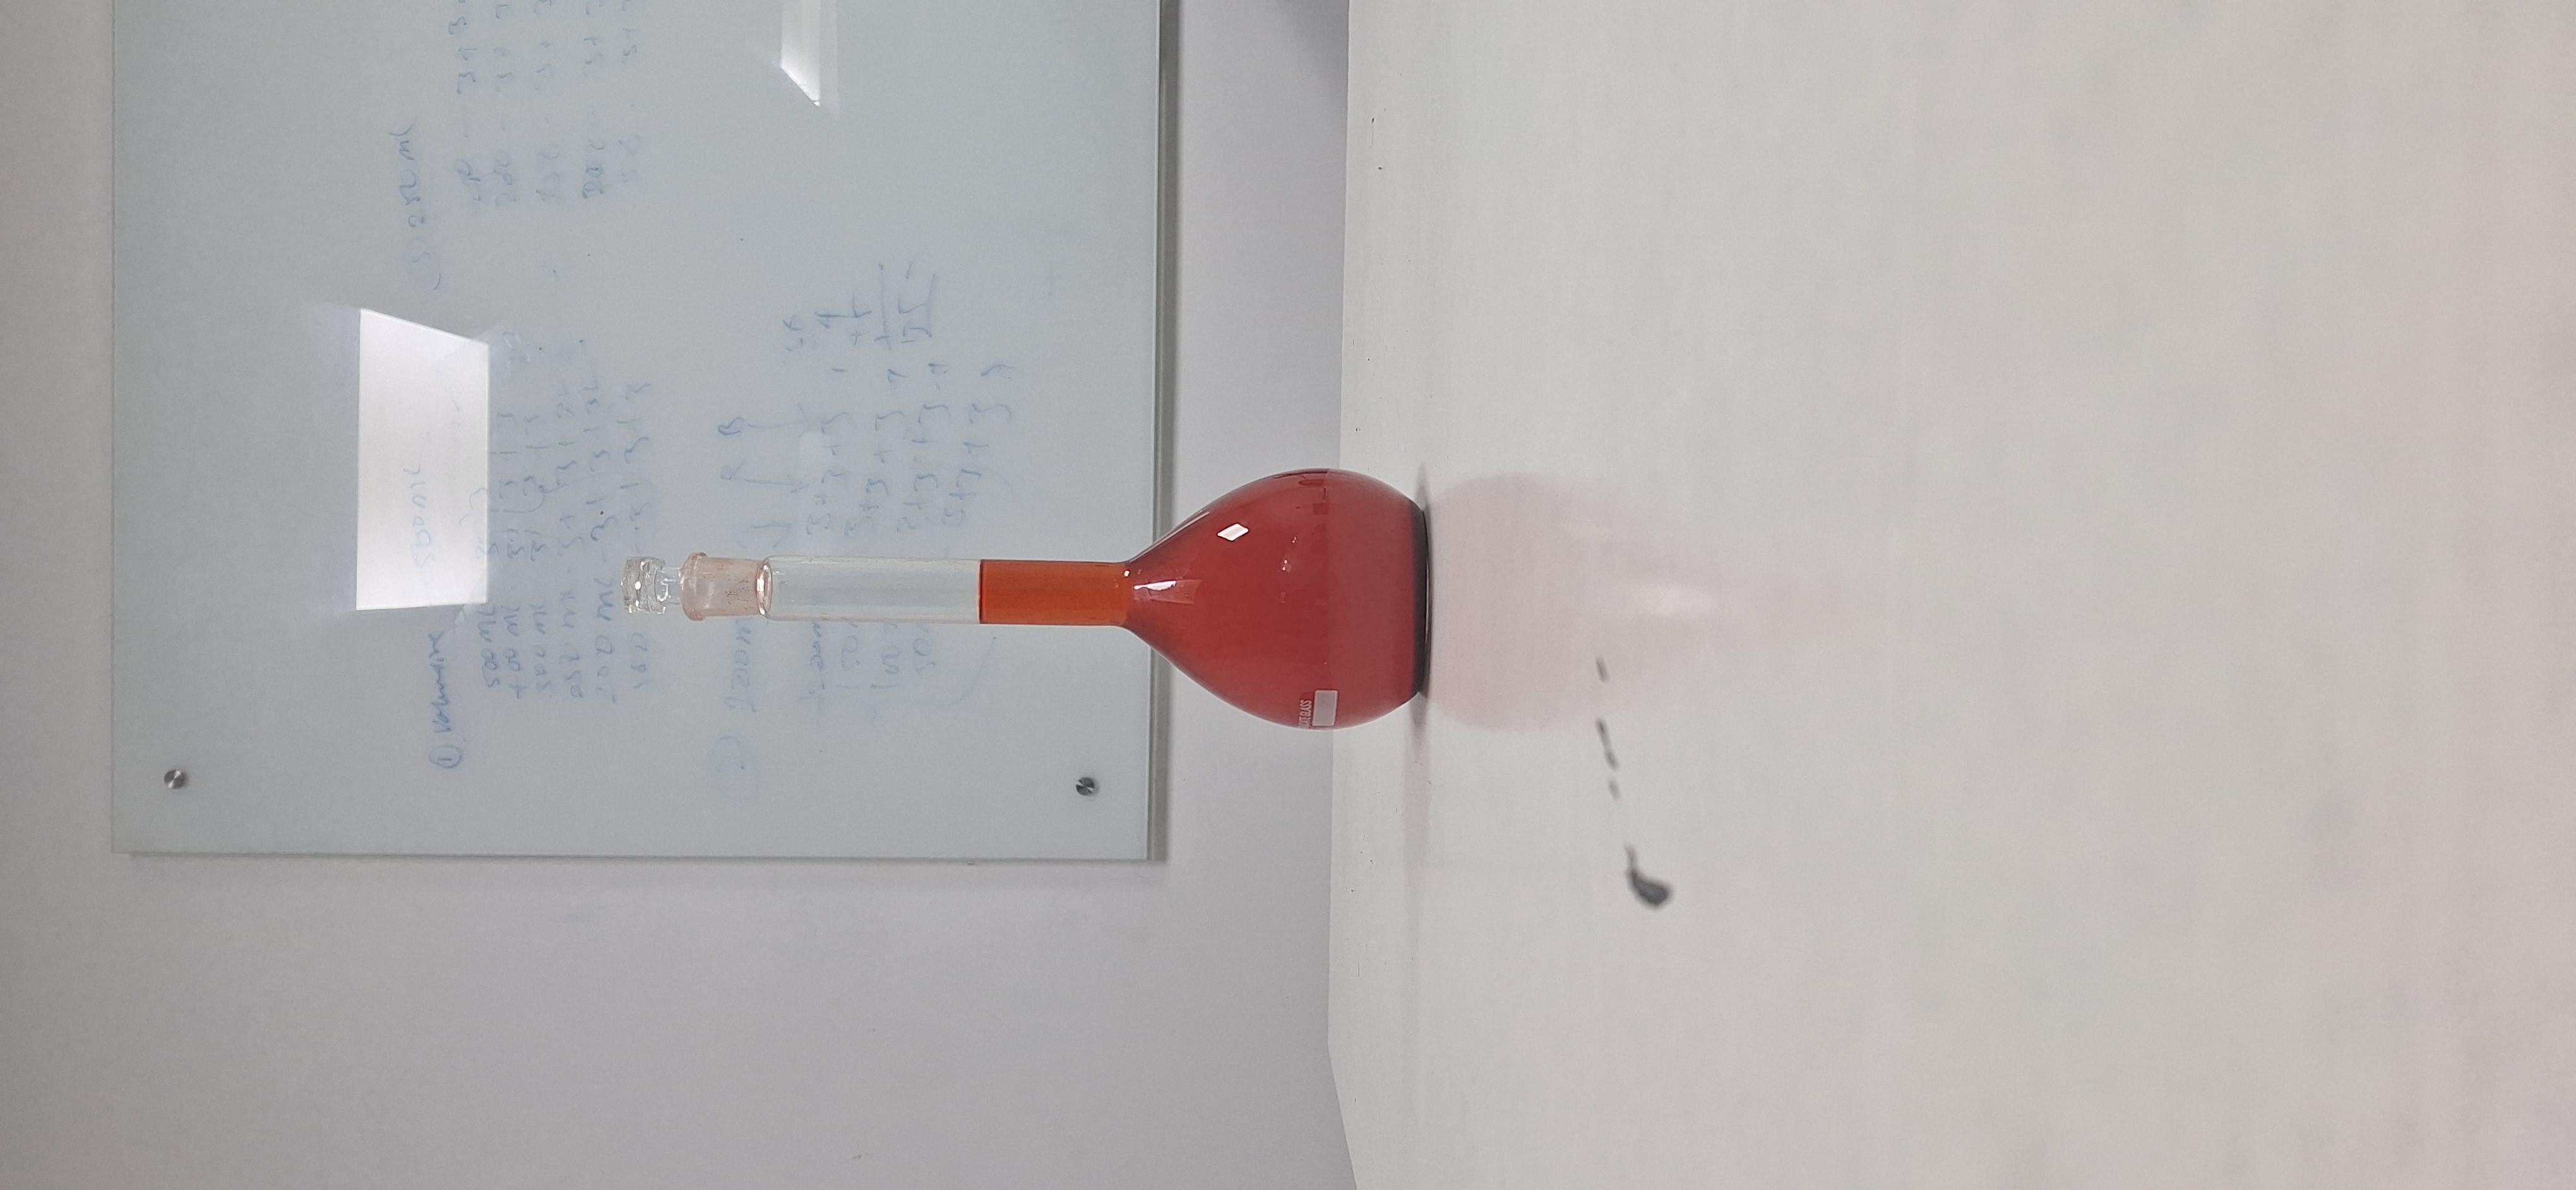Volumetric flask: (930, 266, 1677, 657)
